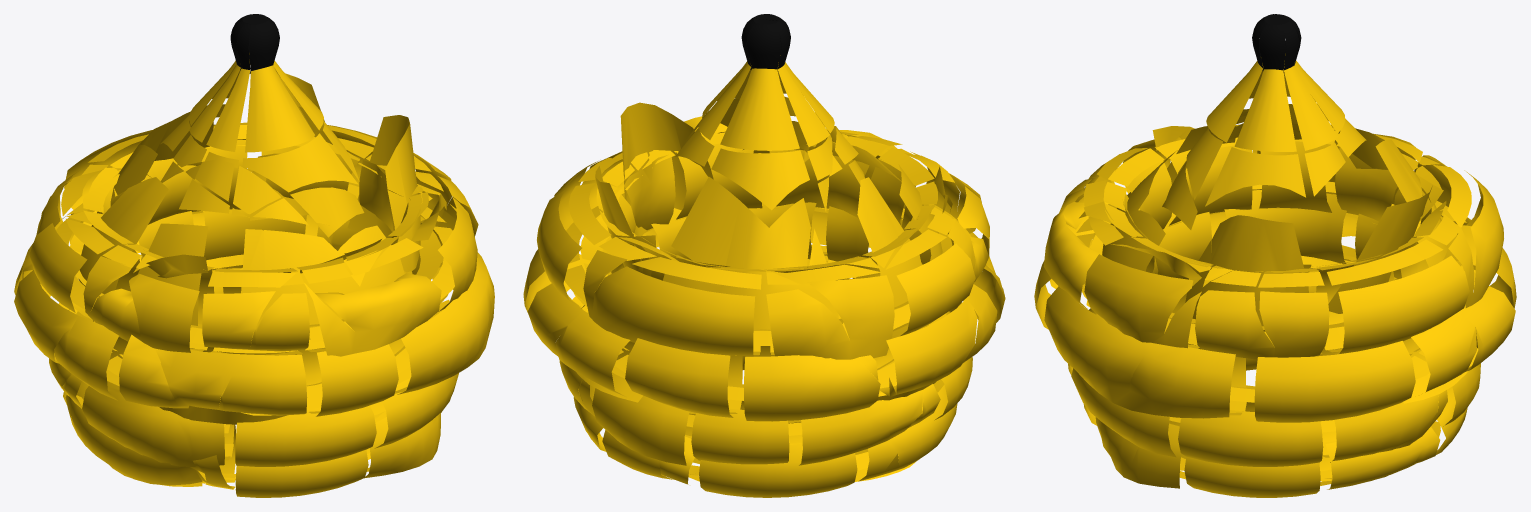
The picture shows the model from 3 angles, left to right: view 1: azimuth 30°, elevation 25°; view 2: azimuth 150°, elevation 25°; view 3: azimuth 270°, elevation 25°; orthographic projection.
Parts seen in each view (by area): view 1: Torus.006; view 2: Torus.006; view 3: Torus.006.
Part boxes in pixels (<box>): Torus.006: <box>14,14,494,497</box>; Torus.006: <box>523,14,1005,497</box>; Torus.006: <box>1034,14,1516,497</box>.
Bounding box in the file's own units: 86.94 × 82.62 × 87.2.
